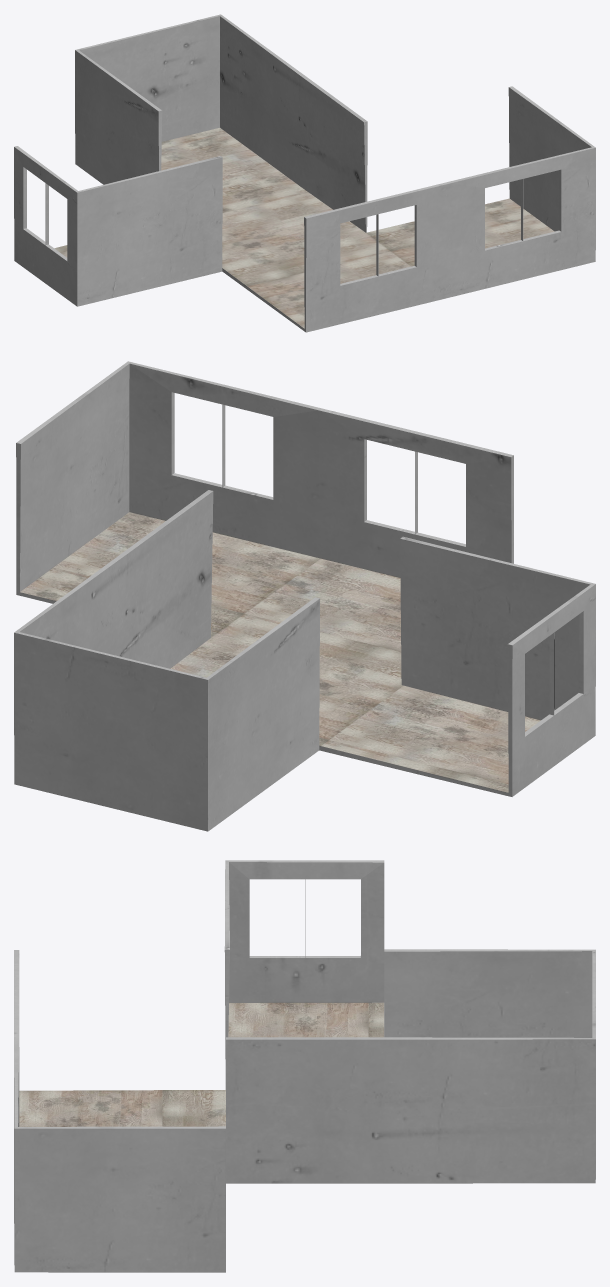
Rendered from apartment3.fbx.
3 views of the same model, one above another, from view 1: azimuth 30°, elevation 25°; view 2: azimuth 150°, elevation 25°; view 3: azimuth 270°, elevation 25° (orthographic). The views are drawn at different scales.
Visible parts, largest first — view 1: main_apartment_applied; view 2: main_apartment_applied; view 3: main_apartment_applied.
Boxes of the visible parts, left/top/right/bottom form: main_apartment_applied: left=14, top=14, right=595, bottom=332; main_apartment_applied: left=14, top=361, right=595, bottom=831; main_apartment_applied: left=14, top=860, right=595, bottom=1272.
Bounding box in the file's own units: 1205 × 302 × 1104.
1 material, 1 textured.
